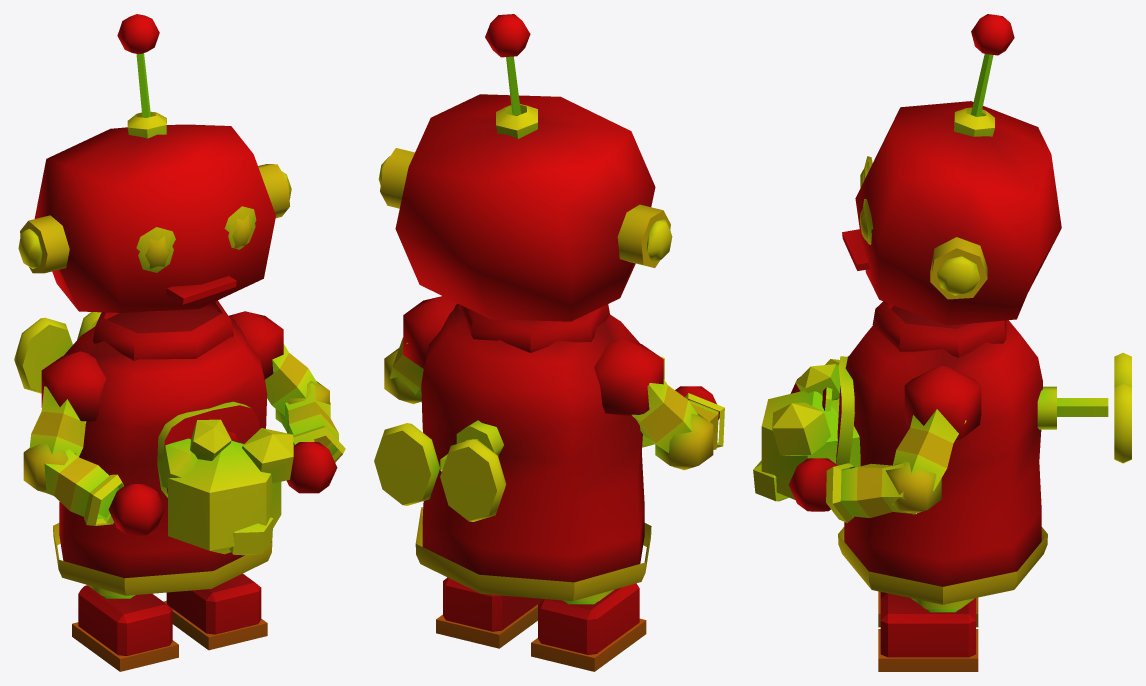
Rendered from RobotWorker_carry_gold_LOD1.glb.
The picture shows the model from 3 angles, left to right: view 1: azimuth 30°, elevation 25°; view 2: azimuth 150°, elevation 25°; view 3: azimuth 270°, elevation 25°; orthographic projection. The views are drawn at different scales.
Parts seen in each view (by area): view 1: RobotWorker_carry_gold_LOD1; view 2: RobotWorker_carry_gold_LOD1; view 3: RobotWorker_carry_gold_LOD1.
Boxes of the visible parts, x1,y1,x2,y2 form: RobotWorker_carry_gold_LOD1: (14,14,345,671); RobotWorker_carry_gold_LOD1: (374,14,724,671); RobotWorker_carry_gold_LOD1: (753,14,1131,671).
Size of the model in its own units: 0.4805 by 0.93 by 0.5153.
